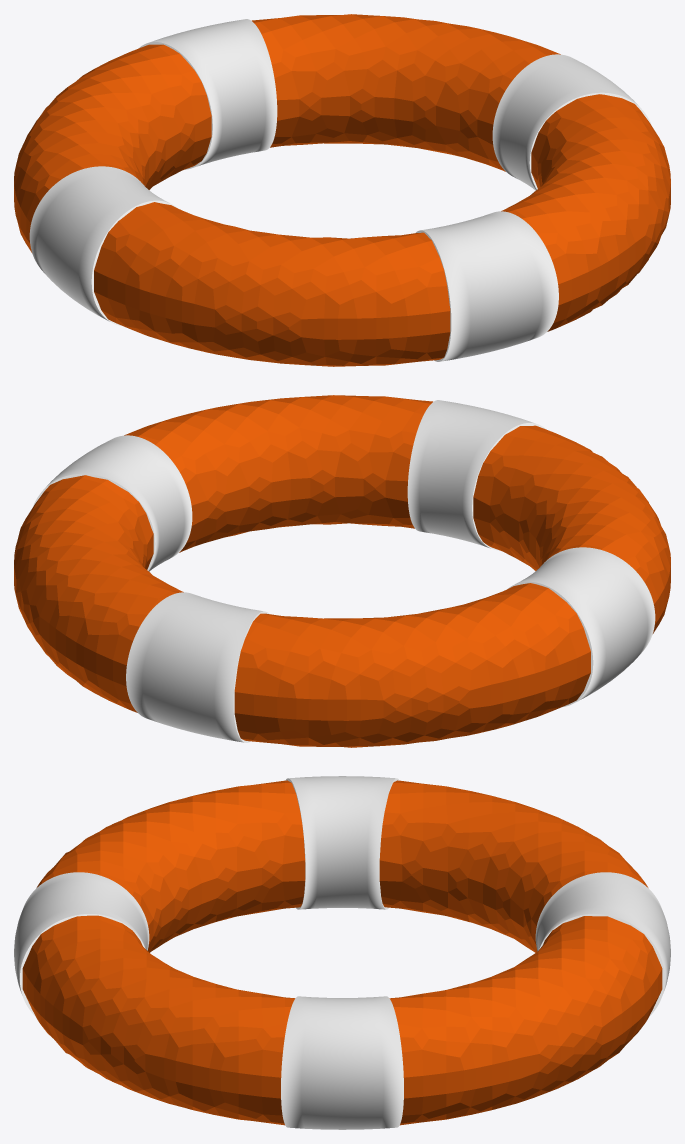
The model's file is float lo polly.fbx.
The picture shows the model from 3 angles, top to bottom: view 1: azimuth 30°, elevation 25°; view 2: azimuth 150°, elevation 25°; view 3: azimuth 270°, elevation 25°; orthographic projection.
Parts seen in each view (by area): view 1: Torus, Torus.001; view 2: Torus, Torus.001; view 3: Torus, Torus.001.
Part boxes in pixels (left/top/right/bottom): Torus: left=14, top=14, right=670, bottom=366; Torus.001: left=29, top=19, right=652, bottom=361; Torus: left=14, top=395, right=670, bottom=747; Torus.001: left=32, top=400, right=655, bottom=742; Torus: left=22, top=780, right=662, bottom=1125; Torus.001: left=14, top=776, right=670, bottom=1129.
Size of the model in its own units: 250 by 50.2 by 250.
